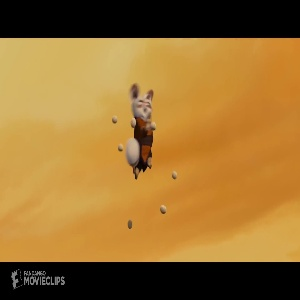shifu: (123, 82, 158, 181)
